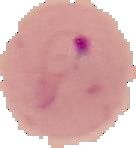parasitized: (33, 21, 109, 110)
